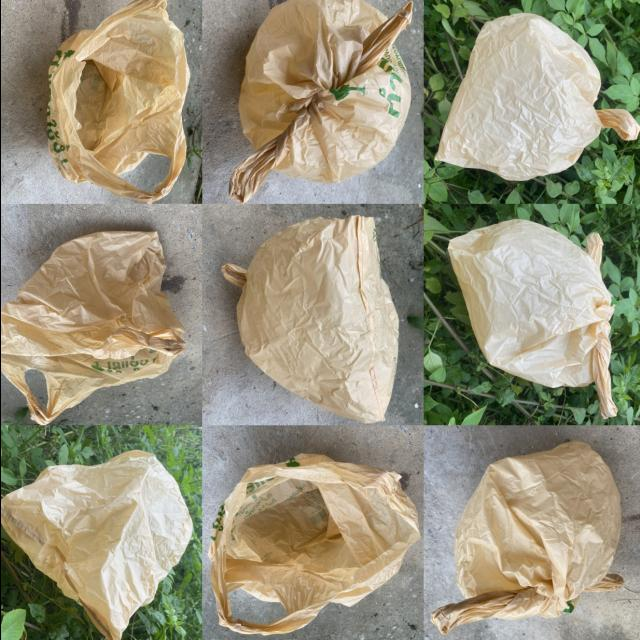plastik: (208, 453, 420, 635), (431, 440, 622, 634), (220, 216, 398, 424), (229, 0, 410, 203), (0, 451, 191, 640), (0, 232, 185, 424), (436, 14, 639, 181), (448, 220, 617, 418), (46, 0, 189, 203)
